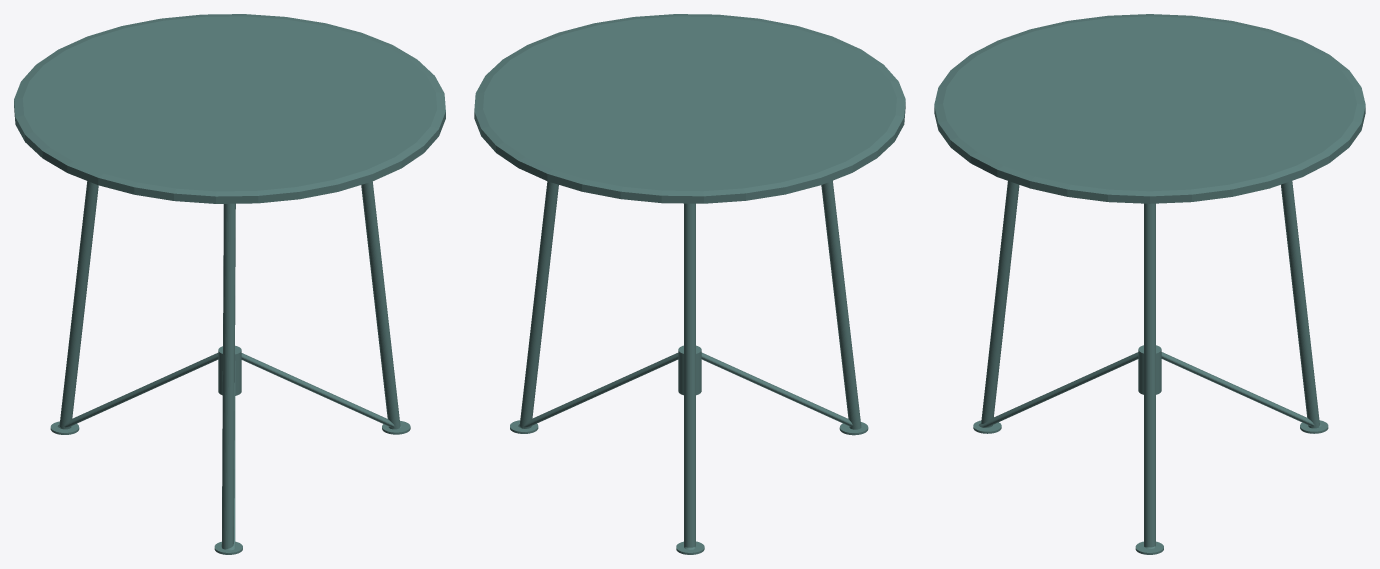
File: table_6.glb
3 renders of one model, left to right at view 1: azimuth 30°, elevation 25°; view 2: azimuth 150°, elevation 25°; view 3: azimuth 270°, elevation 25°, orthographic.
Visible parts, largest first — view 1: table_6_001.001; view 2: table_6_001.001; view 3: table_6_001.001.
Boxes of the visible parts, <box> form: table_6_001.001: <box>14,14,445,554</box>; table_6_001.001: <box>474,14,905,554</box>; table_6_001.001: <box>934,14,1365,554</box>.
Size of the model in its own units: 0.6037 by 0.5621 by 0.6037.
